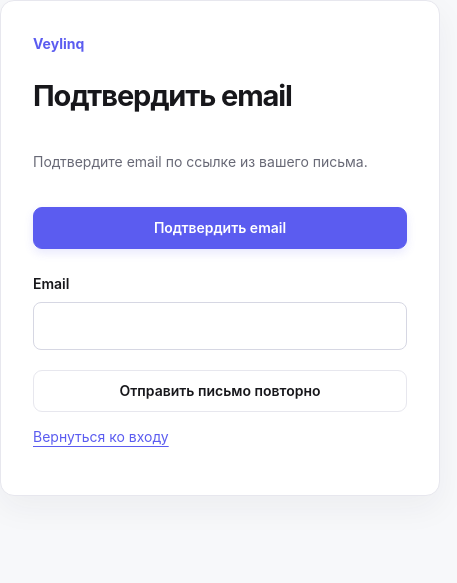
it: shows safe EMAIL_TOKEN_INVALID state and resend
The width and height of the screenshot is (457, 583).
Step 1. Click the button "Подтвердить email" → click(220, 228), box [33,207,407,249]
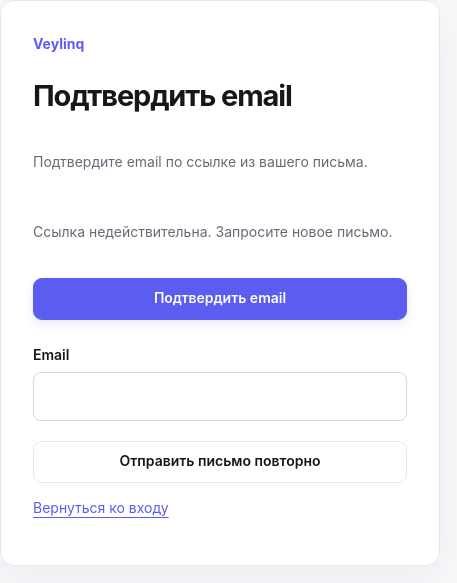
Expected: the button "Отправить письмо повторно" is shown, [33,441,407,483]
Expected: the message "Ссылка недействительна. Запросите новое письмо." is shown, [33,221,407,244]
